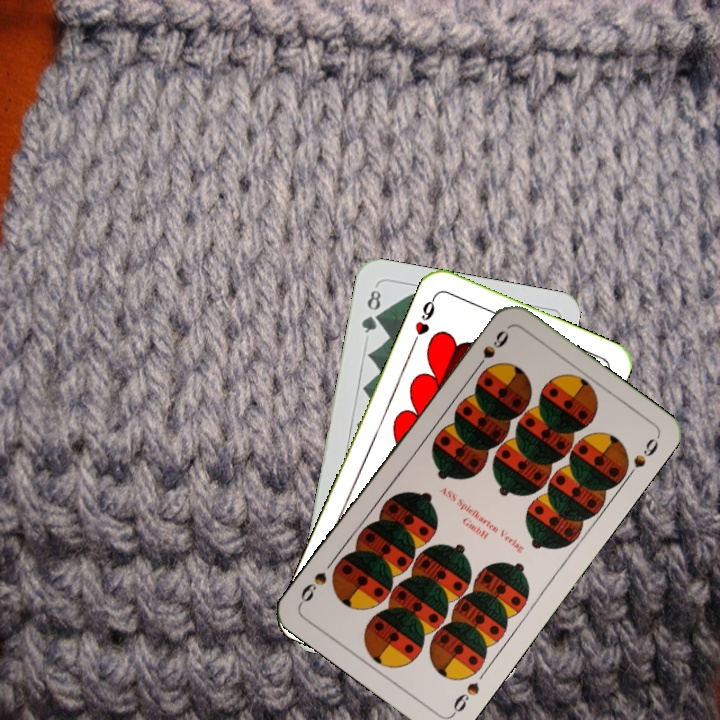G8: (357, 282, 384, 336)
H9: (408, 291, 439, 347)
S9: (470, 326, 512, 375), (447, 678, 482, 719)
